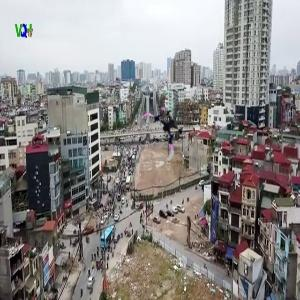drone: (139, 103, 193, 157)
